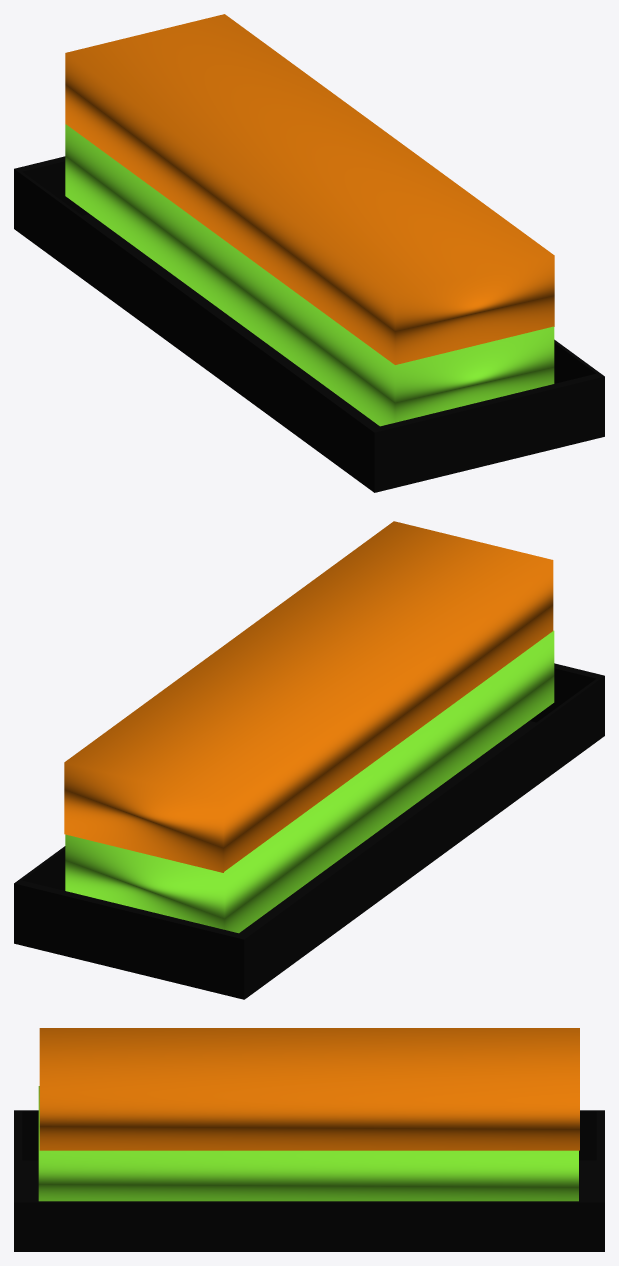
The model's file is BROWNIES.fbx.
3 views of the same model, one above another, from view 1: azimuth 30°, elevation 25°; view 2: azimuth 150°, elevation 25°; view 3: azimuth 270°, elevation 25° (orthographic). The views are drawn at different scales.
Visible parts, largest first — view 1: Cube.002, Cube, Cube.001; view 2: Cube.002, Cube, Cube.001; view 3: Cube.002, Cube, Cube.001.
Boxes of the visible parts, box(x1,y1,x2,y2) form: Cube.002: box(65, 14, 554, 364); Cube: box(14, 156, 604, 492); Cube.001: box(65, 124, 554, 426); Cube.002: box(64, 521, 553, 872); Cube: box(14, 663, 604, 999); Cube.001: box(65, 630, 554, 933); Cube.002: box(39, 1028, 579, 1150); Cube: box(14, 1110, 604, 1251); Cube.001: box(38, 1086, 578, 1201).
Bounding box in the file's own units: 75.65 × 55.99 × 205.
